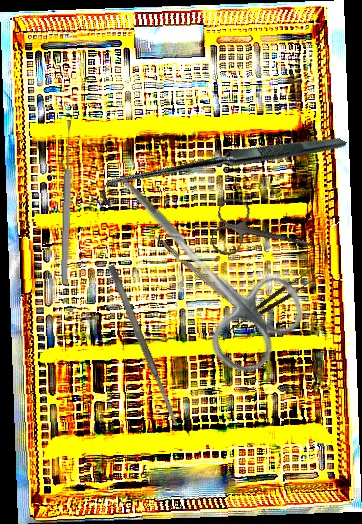Chopper: (145, 229, 257, 329)
Hook Surgical: (97, 48, 347, 294)
Iris Scissors: (80, 143, 319, 384), (208, 194, 324, 276)
Spatula Surgical: (106, 263, 181, 428)
Surgical Spoon: (59, 120, 75, 285)
Tissue Forceps: (216, 265, 322, 342)
